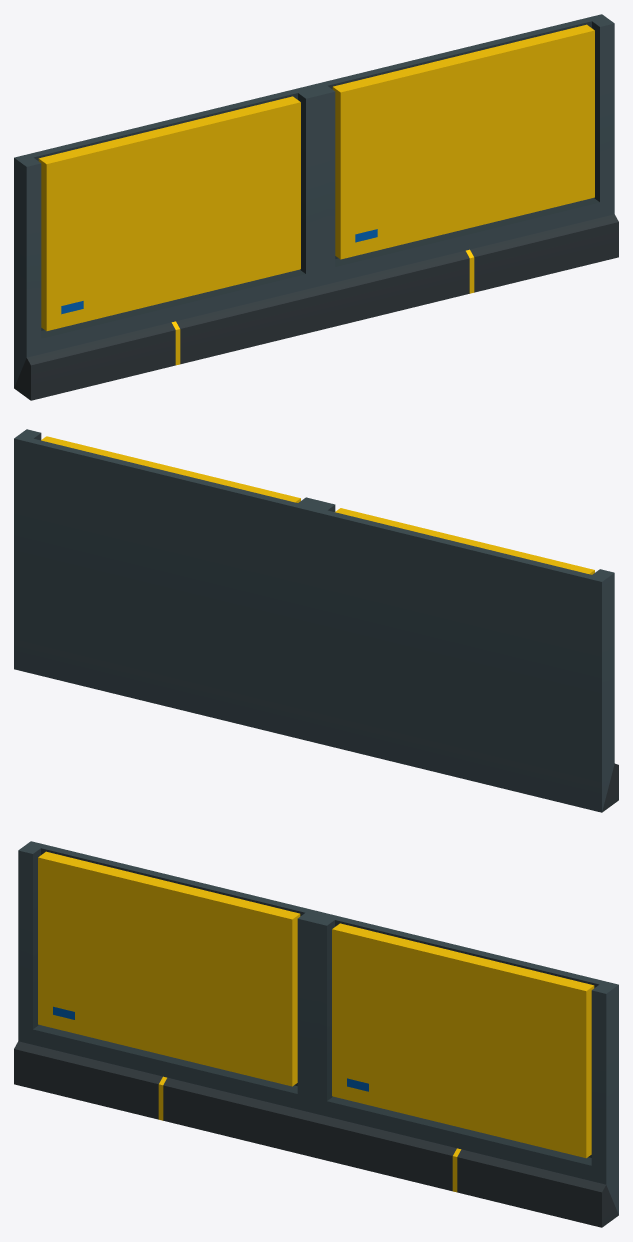
File: Wall_type_C_031.fbx
3 views of the same model, one above another, from view 1: azimuth 30°, elevation 25°; view 2: azimuth 150°, elevation 25°; view 3: azimuth 330°, elevation 25° (orthographic).
Visible parts, largest first — view 1: Wall_type_C_031; view 2: Wall_type_C_031; view 3: Wall_type_C_031.
Boxes of the visible parts, x1,y1,x2,y2 form: Wall_type_C_031: (14, 14, 618, 400); Wall_type_C_031: (14, 429, 618, 812); Wall_type_C_031: (14, 841, 618, 1227).
Bounding box in the file's own units: 400 × 20 × 150.
